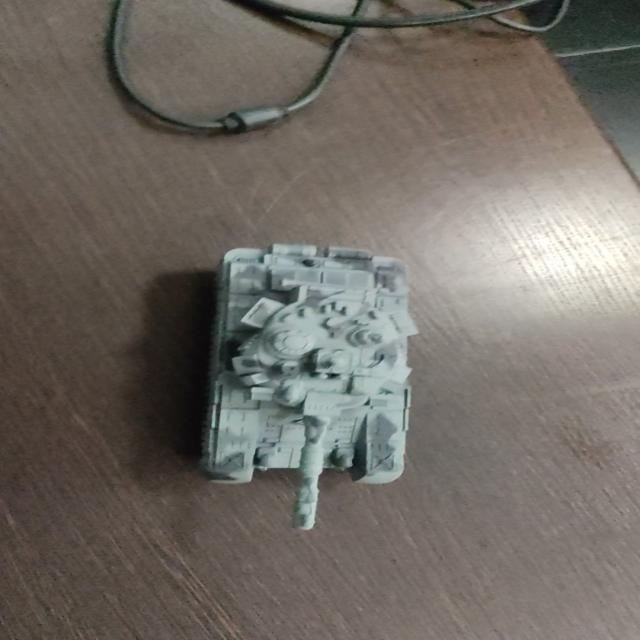tank: (193, 243, 419, 532)
